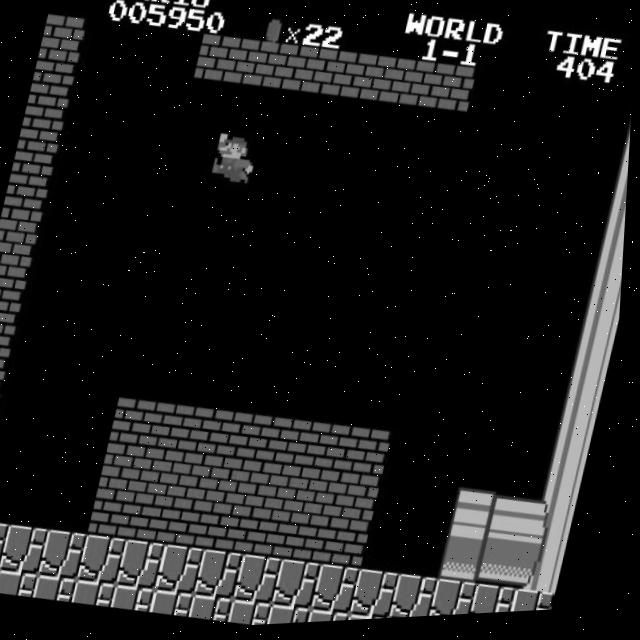1- brick_block: (103, 443, 154, 497), (232, 40, 283, 94), (132, 493, 183, 547), (271, 45, 322, 99), (220, 459, 271, 513), (259, 464, 310, 518), (249, 509, 300, 563), (288, 515, 339, 569), (337, 475, 388, 529), (113, 398, 164, 451), (230, 414, 281, 467), (269, 419, 320, 472), (347, 430, 398, 483), (194, 34, 244, 88), (93, 488, 143, 542), (142, 448, 192, 502), (181, 454, 231, 508), (311, 51, 361, 105), (210, 504, 260, 558), (350, 56, 400, 110), (389, 61, 439, 115), (299, 469, 349, 523), (428, 67, 478, 121), (328, 520, 378, 574), (152, 403, 202, 456), (191, 408, 241, 461), (171, 499, 221, 552), (38, 13, 87, 67), (8, 149, 57, 203), (309, 425, 359, 477), (28, 58, 77, 111), (18, 104, 67, 157), (0, 194, 47, 248), (0, 240, 37, 293), (0, 284, 27, 338), (0, 330, 17, 383), (0, 376, 6, 428)
11- little_mario: (209, 130, 262, 188)
14- pipe: (562, 365, 613, 419), (552, 410, 603, 464), (542, 456, 593, 509), (494, 496, 544, 550), (484, 541, 534, 595), (523, 546, 573, 600), (573, 320, 623, 373), (533, 501, 583, 554), (583, 274, 626, 328), (593, 229, 628, 282), (603, 185, 630, 237), (613, 140, 632, 192), (622, 94, 634, 146)
15- pipe_head: (455, 491, 505, 545), (445, 536, 495, 590)
17- undestructible_block: (122, 539, 173, 593), (239, 555, 290, 609), (278, 560, 329, 614), (317, 565, 368, 619), (356, 570, 407, 624), (5, 523, 55, 577), (44, 528, 94, 582), (161, 544, 211, 598), (200, 550, 250, 604), (83, 534, 133, 587), (395, 576, 445, 623), (435, 581, 485, 621), (474, 587, 524, 619), (156, 589, 202, 621), (39, 573, 84, 605), (78, 578, 123, 610), (117, 584, 162, 616), (0, 568, 45, 599), (195, 595, 240, 626), (234, 599, 279, 629), (513, 592, 562, 618), (273, 605, 318, 628), (0, 517, 16, 571), (313, 610, 358, 626), (352, 616, 397, 624), (0, 562, 6, 593)
